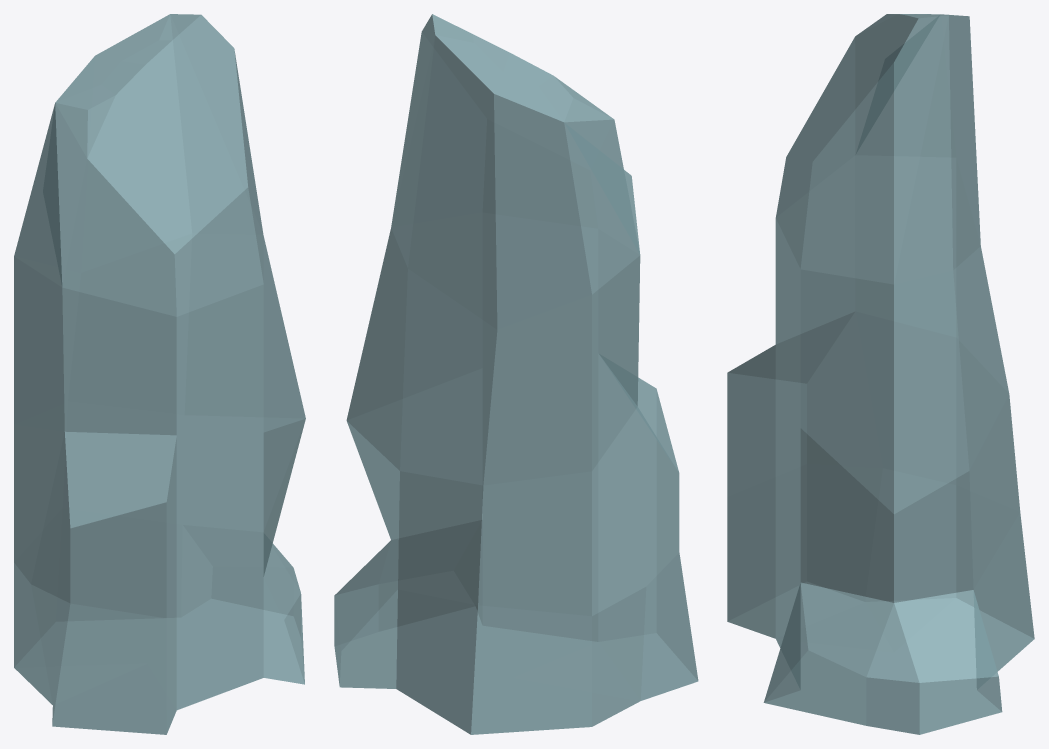
The model's file is IcePart.fbx.
The picture shows the model from 3 angles, left to right: view 1: azimuth 30°, elevation 25°; view 2: azimuth 150°, elevation 25°; view 3: azimuth 270°, elevation 25°; orthographic projection. The views are drawn at different scales.
Parts seen in each view (by area): view 1: IcePart; view 2: IcePart; view 3: IcePart.
Boxes of the visible parts, left/top/right/bottom form: IcePart: left=14, top=14, right=305, bottom=734; IcePart: left=334, top=14, right=698, bottom=734; IcePart: left=727, top=14, right=1034, bottom=734.
Bounding box in the file's own units: 254 × 519 × 215.
